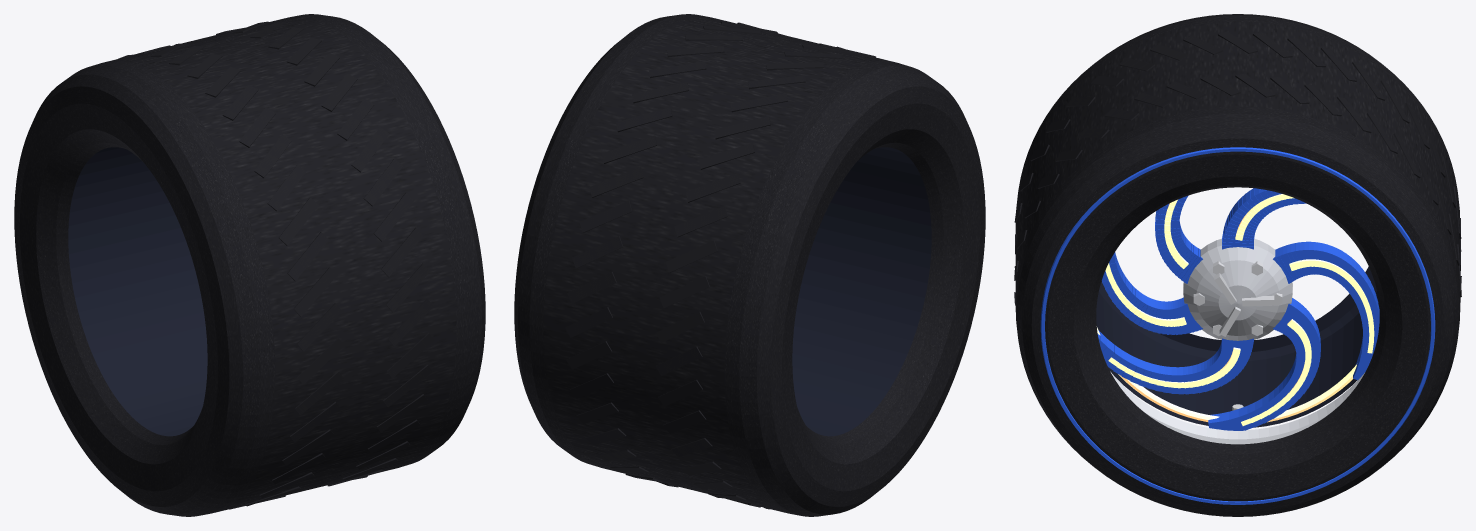
File: tyre-vortex.glb
The picture shows the model from 3 angles, left to right: view 1: azimuth 30°, elevation 25°; view 2: azimuth 150°, elevation 25°; view 3: azimuth 270°, elevation 25°; orthographic projection. The views are drawn at different scales.
Visible parts, largest first — view 1: Tyre_Rubber, Rim; view 2: Tyre_Rubber, Rim; view 3: Tyre_Rubber, Rim_Spokes, Rim, Hub, Tyre_Stripe, Rim_Lip, Chrome, LED_Ring, LED_Seg_1, LED_Seg_5, LED_Seg_6, LED_Seg_2 (+2 smaller).
Boxes of the visible parts, <box> form: Tyre_Rubber: <box>14,14,485,516</box>; Rim: <box>68,147,207,436</box>; Tyre_Rubber: <box>514,14,985,516</box>; Rim: <box>792,147,931,436</box>; Tyre_Rubber: <box>1014,14,1461,516</box>; Rim_Spokes: <box>1097,188,1379,430</box>; Rim: <box>1096,266,1379,427</box>; Hub: <box>1183,238,1292,340</box>; Tyre_Stripe: <box>1040,147,1435,504</box>; Rim_Lip: <box>1110,371,1364,444</box>; Chrome: <box>1193,261,1282,410</box>; LED_Ring: <box>1096,326,1356,422</box>; LED_Seg_1: <box>1108,347,1240,388</box>; LED_Seg_5: <box>1289,259,1374,353</box>; LED_Seg_6: <box>1241,319,1311,425</box>; LED_Seg_2: <box>1105,263,1186,326</box>.
Size of the model in its own units: 0.1802 by 0.2779 by 0.2779.
14 materials, 1 textured.
